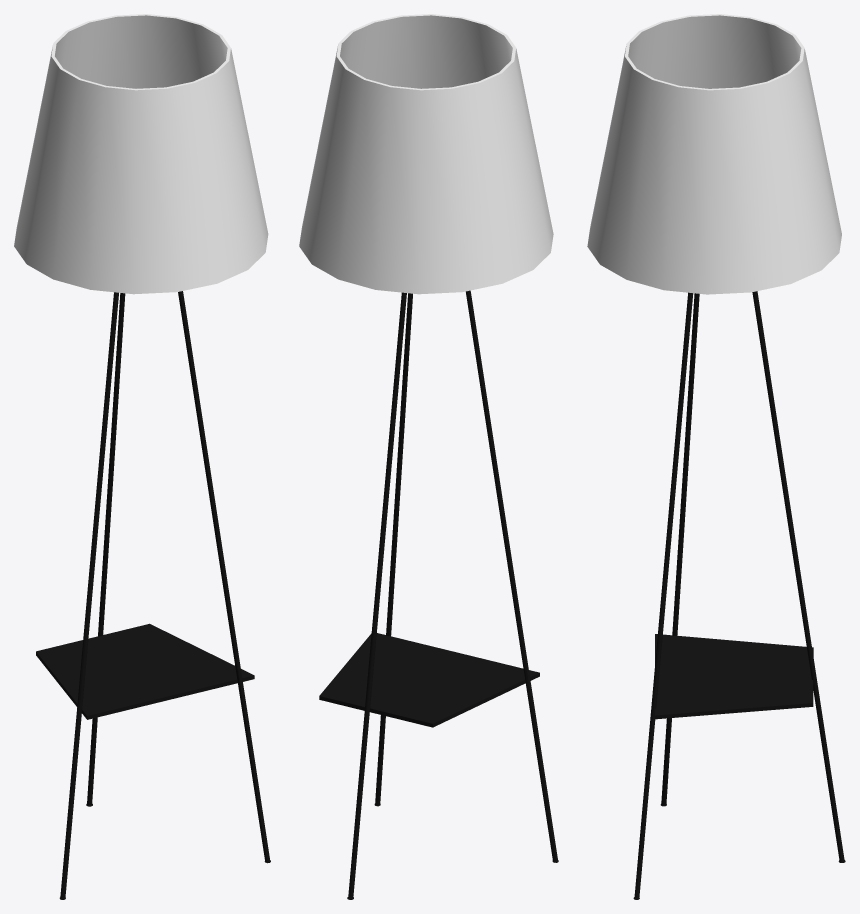
The model's file is Lamp 2.FBX.
The picture shows the model from 3 angles, left to right: view 1: azimuth 30°, elevation 25°; view 2: azimuth 150°, elevation 25°; view 3: azimuth 270°, elevation 25°; orthographic projection.
Parts seen in each view (by area): view 1: lamp 2; view 2: lamp 2; view 3: lamp 2.
Boxes of the visible parts, x1,y1,x2,y2 form: lamp 2: (14, 14, 270, 899); lamp 2: (299, 14, 558, 899); lamp 2: (587, 14, 845, 899).
Size of the model in its own units: 63.27 by 63.84 by 219.
Materials: 2 (1 with a texture image).
